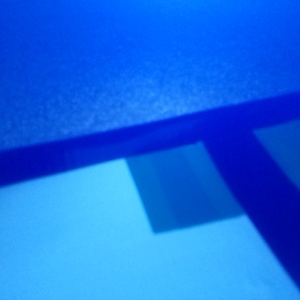bottom_left: (124, 128, 250, 234)
bottom_right: (231, 114, 300, 195)
